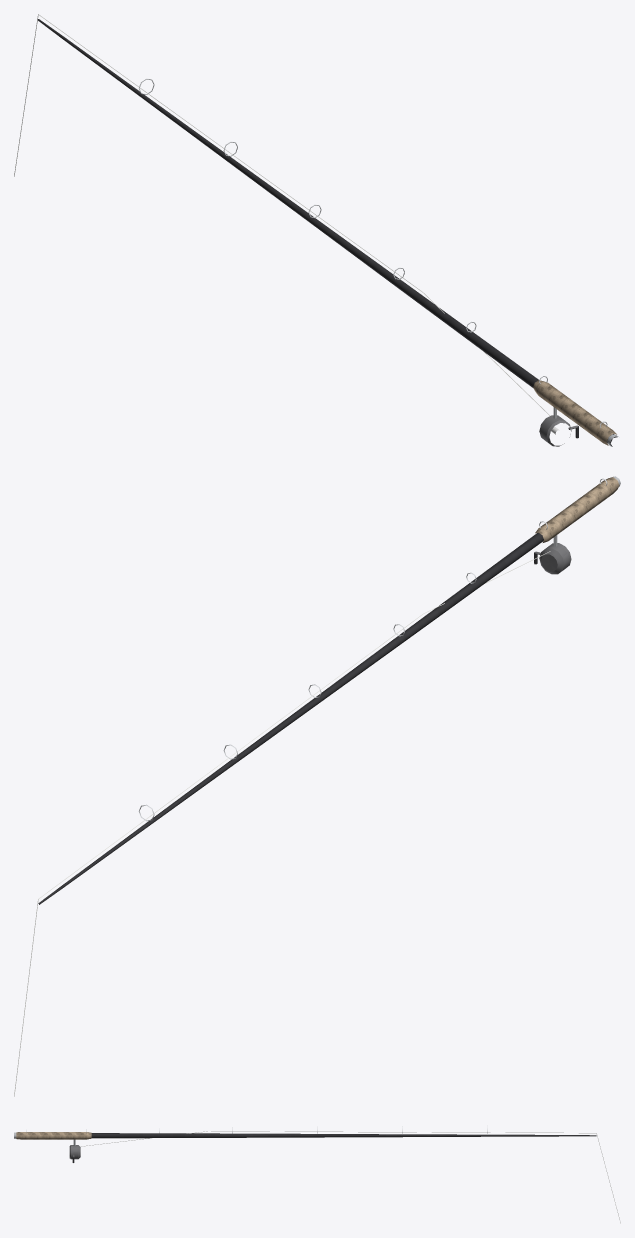
Rendered from item_fishing_rod.glb.
3 renders of one model, top to bottom at view 1: azimuth 30°, elevation 25°; view 2: azimuth 150°, elevation 25°; view 3: azimuth 270°, elevation 25°, orthographic. The views are drawn at different scales.
Parts seen in each view (by area): view 1: rod; view 2: rod; view 3: rod.
Part boxes in pixels (x1,y1,x2,y2): rod: [14, 14, 618, 446]; rod: [14, 476, 620, 1096]; rod: [14, 1125, 620, 1223].
Size of the model in its own units: 0.084 by 0.4472 by 2.5.
Materials: 7 (7 with a texture image).
